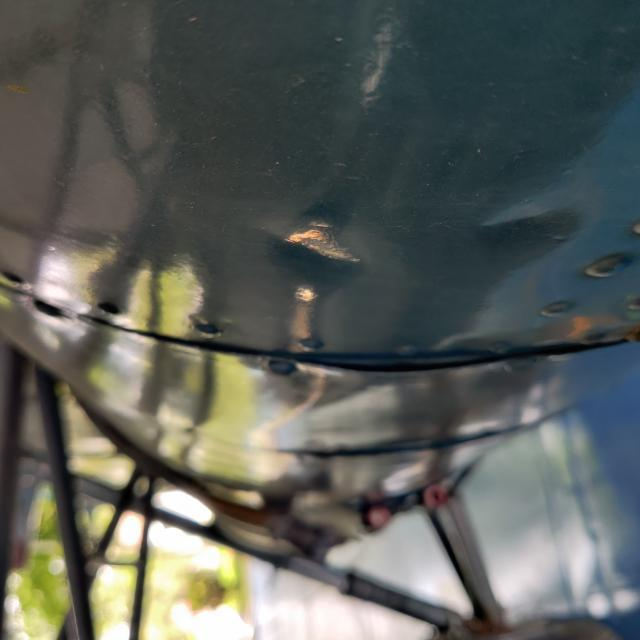dent: (363, 465, 472, 604), (329, 252, 444, 380)
